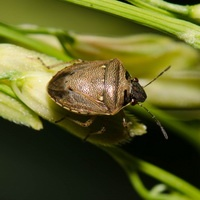insect: (48, 58, 146, 114)
